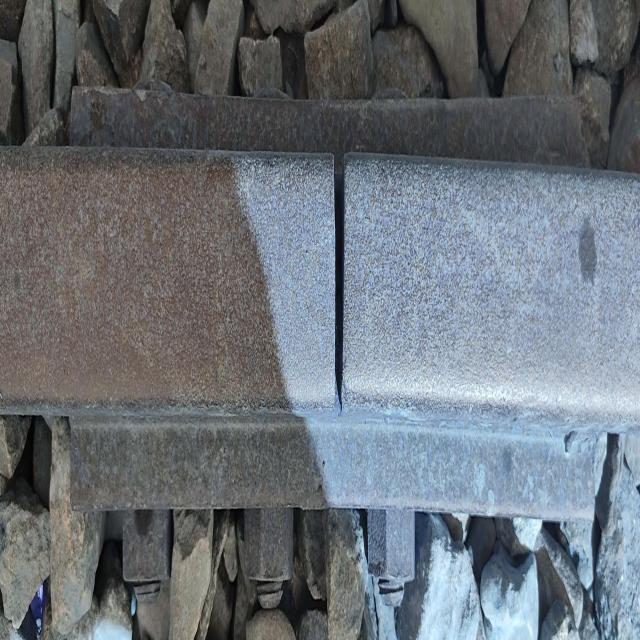Defective Joint: (72, 93, 606, 581)
